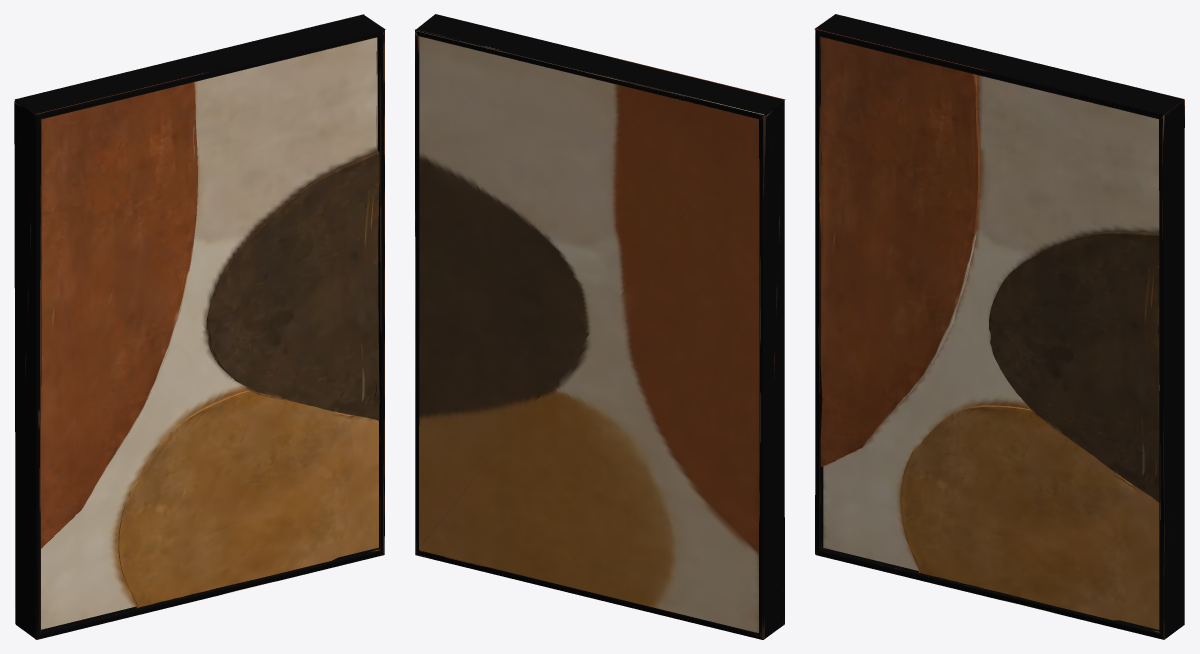
The model's file is desktop.glb.
3 renders of one model, left to right at view 1: azimuth 30°, elevation 25°; view 2: azimuth 150°, elevation 25°; view 3: azimuth 330°, elevation 25°, orthographic.
Visible parts, largest first — view 1: wallart; view 2: wallart; view 3: wallart.
Part boxes in pixels (x1=…): wallart: x1=14, y1=14, x2=385, y2=639; wallart: x1=415, y1=14, x2=785, y2=639; wallart: x1=814, y1=14, x2=1184, y2=639.
Size of the model in its own units: 0.8001 by 1.14 by 0.0859.
1 material, 1 textured.
